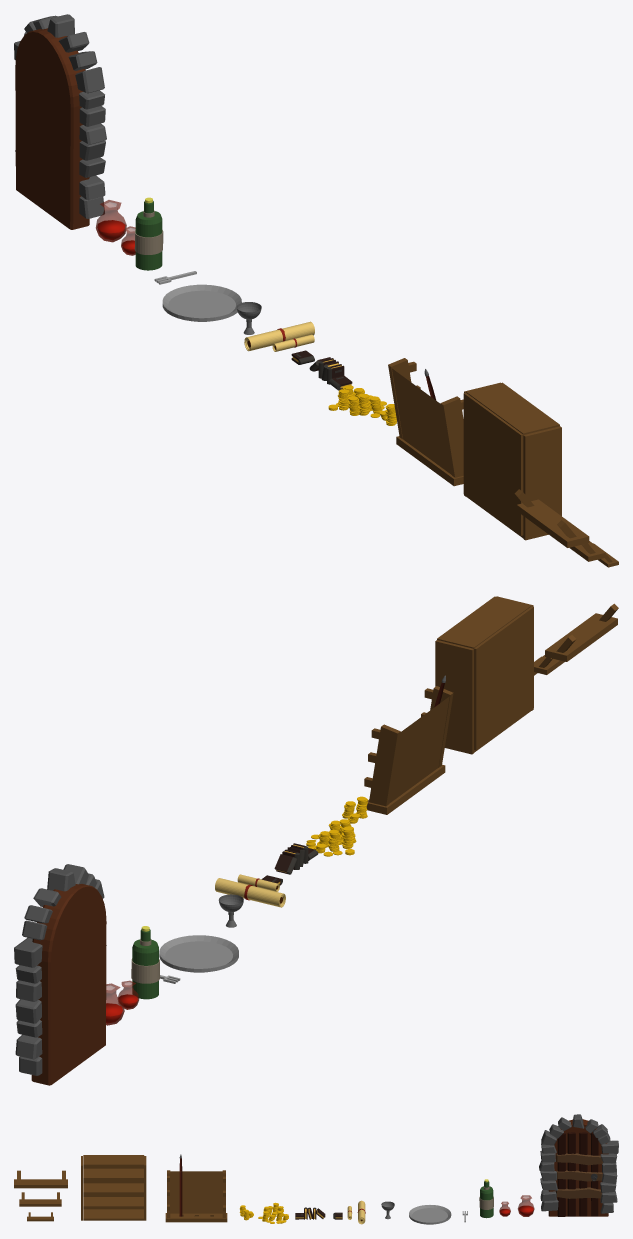
File: stuff (1).fbx
3 renders of one model, top to bottom at view 1: azimuth 30°, elevation 25°; view 2: azimuth 150°, elevation 25°; view 3: azimuth 270°, elevation 25°, orthographic. The views are drawn at different scales.
Parts seen in each view (by area): view 1: Circle.003, Cube.003, Cube.005, Cylinder, Cylinder.001, Cube.004, Cylinder.005, Cylinder.004, Icosphere.001, Cylinder.006; view 2: Circle.003, Cube.003, Cube.005, Cylinder, Cylinder.001, Cube.004, Cylinder.005, Cylinder.004, Cylinder.006; view 3: Circle.003, Cube.003, Cube.005, Cylinder, Cube.004, Cylinder.001, Cylinder.005, Cube, Icosphere.001, Cylinder.006, Cube.001, Cylinder.004.
Boxes of the visible parts, x1=… form: Circle.003: x1=14, y1=14, x2=106, y2=229; Cube.003: x1=463, y1=382, x2=561, y2=540; Cube.005: x1=388, y1=358, x2=463, y2=486; Cylinder: x1=162, y1=284, x2=241, y2=321; Cylinder.001: x1=134, y1=197, x2=163, y2=270; Cube.004: x1=514, y1=489, x2=589, y2=547; Cylinder.005: x1=328, y1=385, x2=386, y2=417; Cylinder.004: x1=244, y1=321, x2=314, y2=351; Icosphere.001: x1=95, y1=200, x2=126, y2=242; Cylinder.006: x1=309, y1=357, x2=352, y2=390; Circle.003: x1=14, y1=864, x2=106, y2=1085; Cube.003: x1=435, y1=596, x2=533, y2=754; Cube.005: x1=364, y1=675, x2=453, y2=814; Cylinder: x1=159, y1=935, x2=238, y2=972; Cylinder.001: x1=131, y1=926, x2=159, y2=999; Cube.004: x1=545, y1=603, x2=618, y2=661; Cylinder.005: x1=306, y1=819, x2=356, y2=856; Cylinder.004: x1=215, y1=878, x2=285, y2=907; Cylinder.006: x1=274, y1=843, x2=318, y2=874; Circle.003: x1=539, y1=1114, x2=618, y2=1216; Cube.003: x1=81, y1=1155, x2=146, y2=1220; Cube.005: x1=165, y1=1154, x2=227, y2=1222; Cylinder: x1=409, y1=1205, x2=451, y2=1224; Cube.004: x1=14, y1=1170, x2=67, y2=1188; Cylinder.001: x1=479, y1=1179, x2=493, y2=1218; Cylinder.005: x1=258, y1=1202, x2=288, y2=1223; Cube: x1=19, y1=1192, x2=61, y2=1206; Icosphere.001: x1=517, y1=1195, x2=534, y2=1216; Cylinder.006: x1=295, y1=1207, x2=325, y2=1219; Cube.001: x1=27, y1=1212, x2=53, y2=1221; Cylinder.004: x1=357, y1=1200, x2=365, y2=1224.
Size of the model in its own units: 161 by 368 by 1985.
